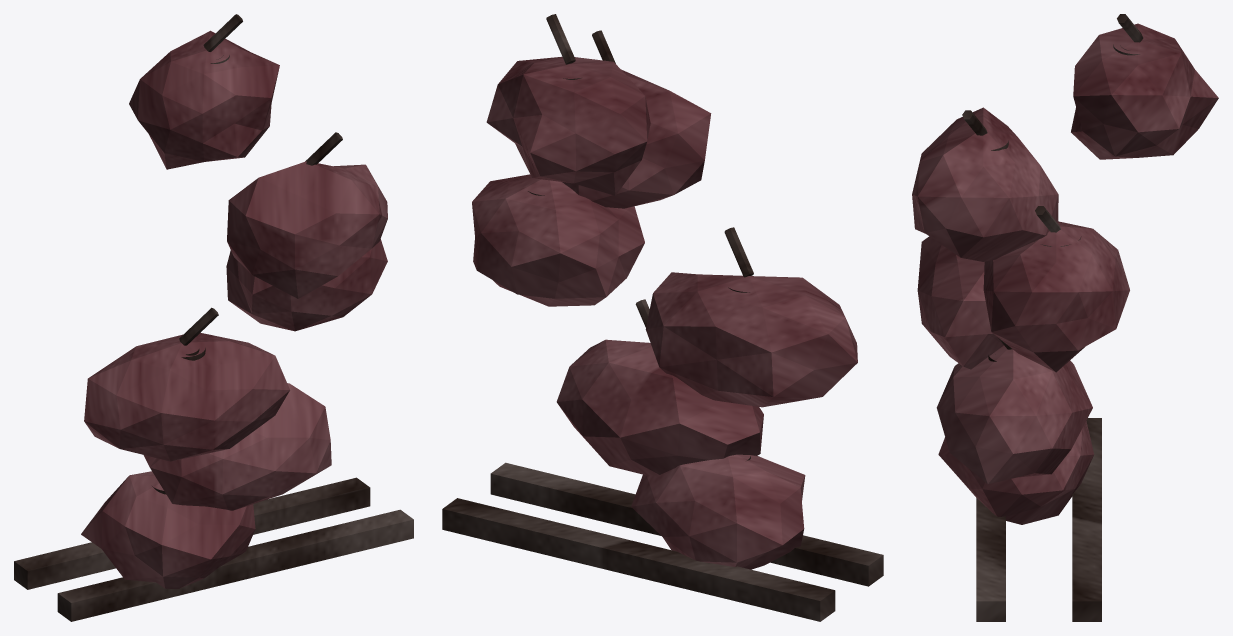
File: 0806_sack_stack_06.glb
3 renders of one model, left to right at view 1: azimuth 30°, elevation 25°; view 2: azimuth 150°, elevation 25°; view 3: azimuth 270°, elevation 25°, orthographic. The views are drawn at different scales.
Parts seen in each view (by area): view 1: cloth, wood_dark; view 2: cloth, wood_dark; view 3: cloth, wood_dark.
Boxes of the visible parts, x1,y1,x2,y2 form: cloth: (81,30,387,588); wood_dark: (14,14,413,621); cloth: (472,56,857,569); wood_dark: (442,14,883,621); cloth: (912,23,1218,524); wood_dark: (962,14,1143,621).
Size of the model in its own units: 1.9 by 2.66 by 1.35.
2 materials, 2 textured.
